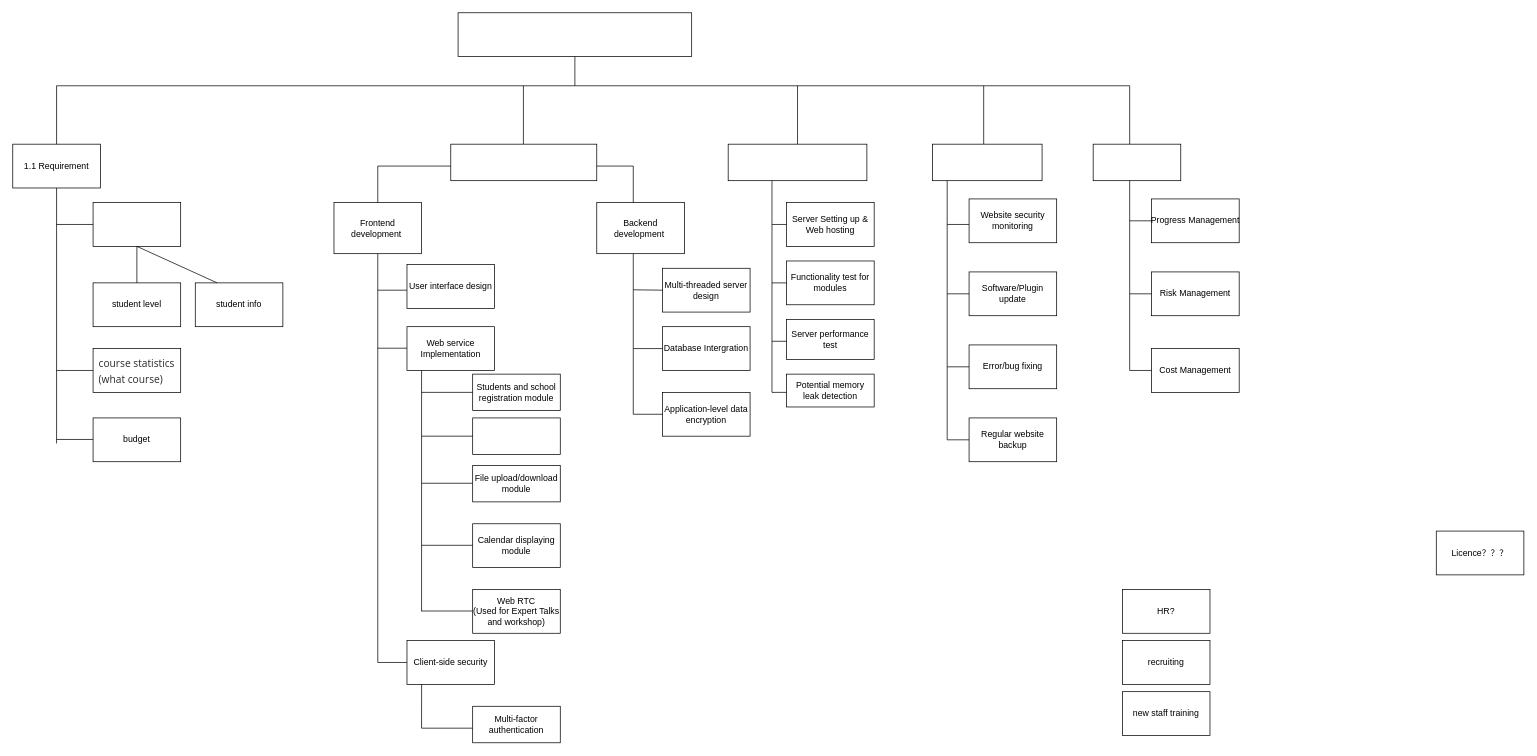
The diagram is 1537 pixels wide and 756 high, and some of its shapes have lost their labels. The centre of each missing label's shape, as x and y in pixels:
"1.2 Platform Implementation" goes at (x=523, y=162).
"1.3 Platform deployment and testing" goes at (x=797, y=162).
"1.4 platform maintence" goes at (x=987, y=162).
"1.5 Project Management" goes at (x=1136, y=162).
"1.UNSW School Outreach website platform" goes at (x=574, y=34).
"Low-ses's school research" goes at (x=136, y=224).
"Users communication module" goes at (x=516, y=435).
